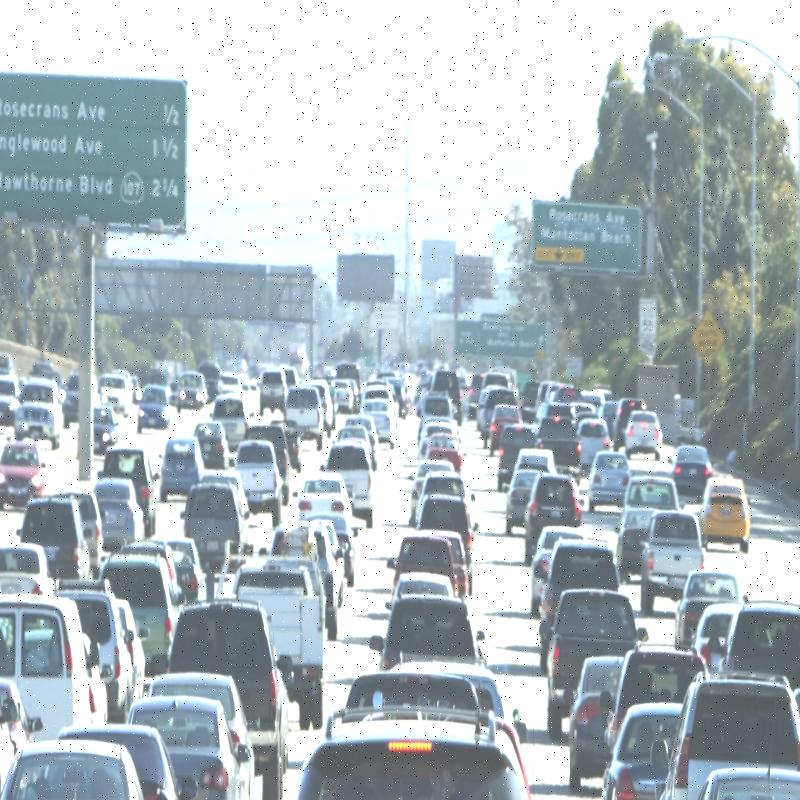car: (169, 596, 282, 774), (667, 667, 797, 800), (373, 601, 484, 682), (643, 497, 715, 598)
